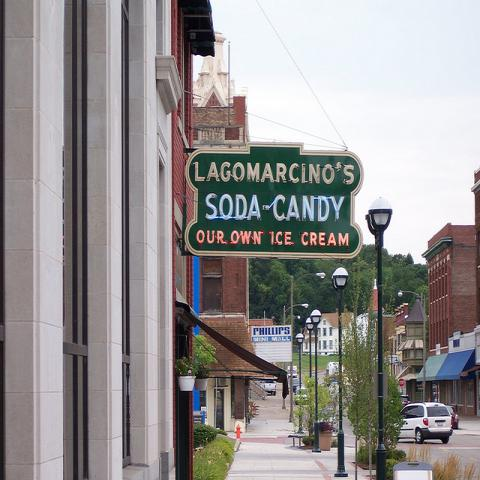car: (398, 402, 452, 444), (445, 406, 458, 428), (295, 388, 309, 405), (266, 380, 276, 396), (329, 372, 345, 382), (401, 394, 412, 405), (293, 379, 299, 392)
